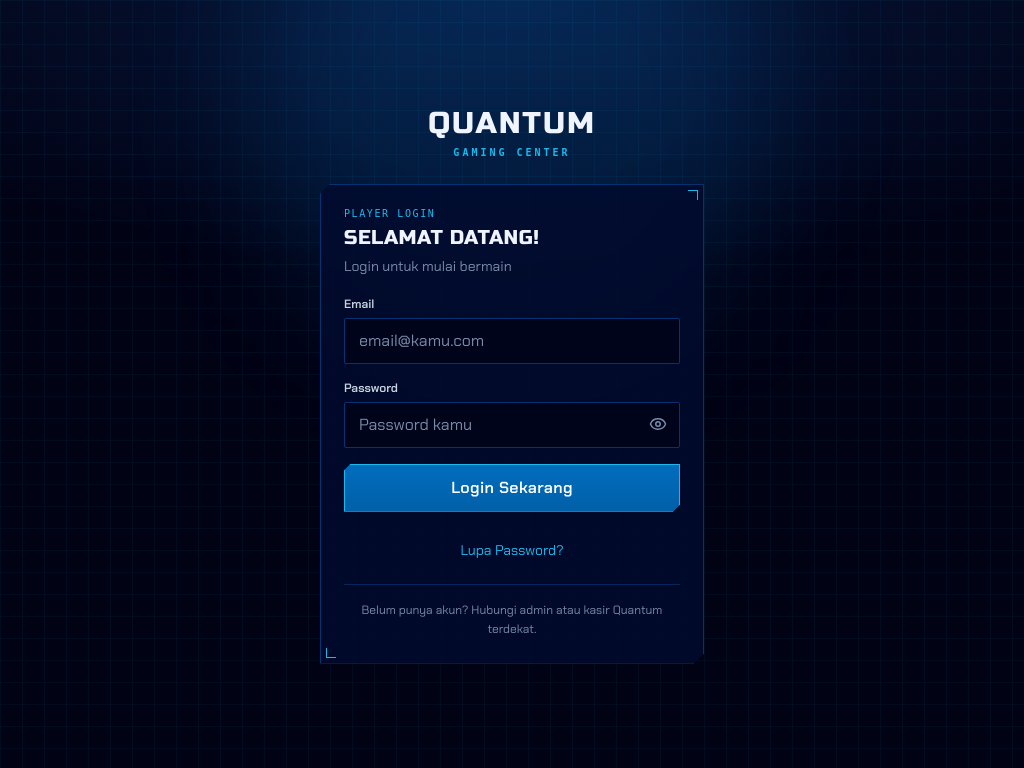
Test case: LoginView › disables the submit button while loading
The image size is (1024, 768).
Type "a@b.com" into the field labelled "Email" at point(512, 340), box [344,318,680,364]
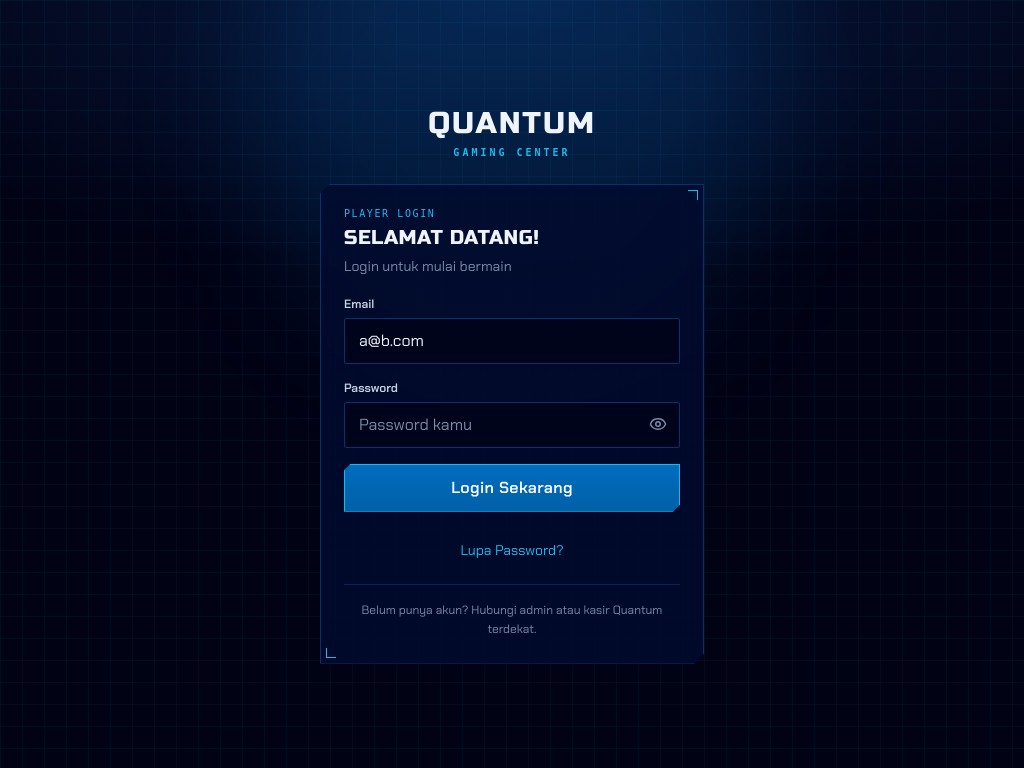
Type "pass" into the password field labelled "Password" at point(512, 424), box [344,402,680,448]
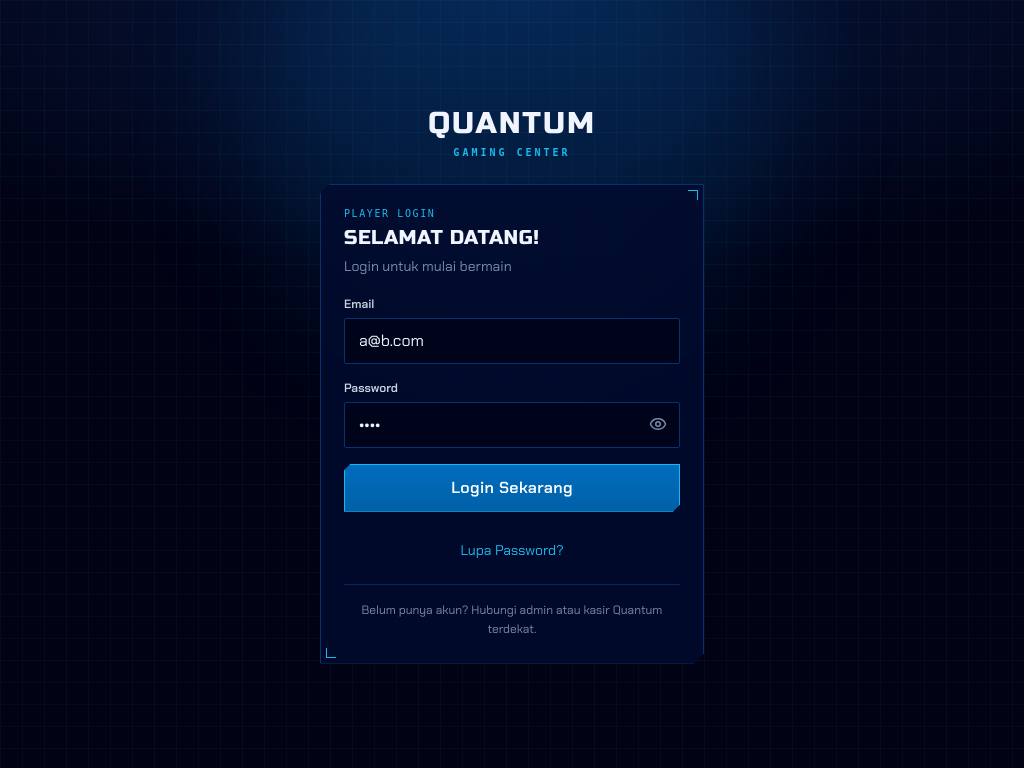
Submit the form, box [344,296,680,512]
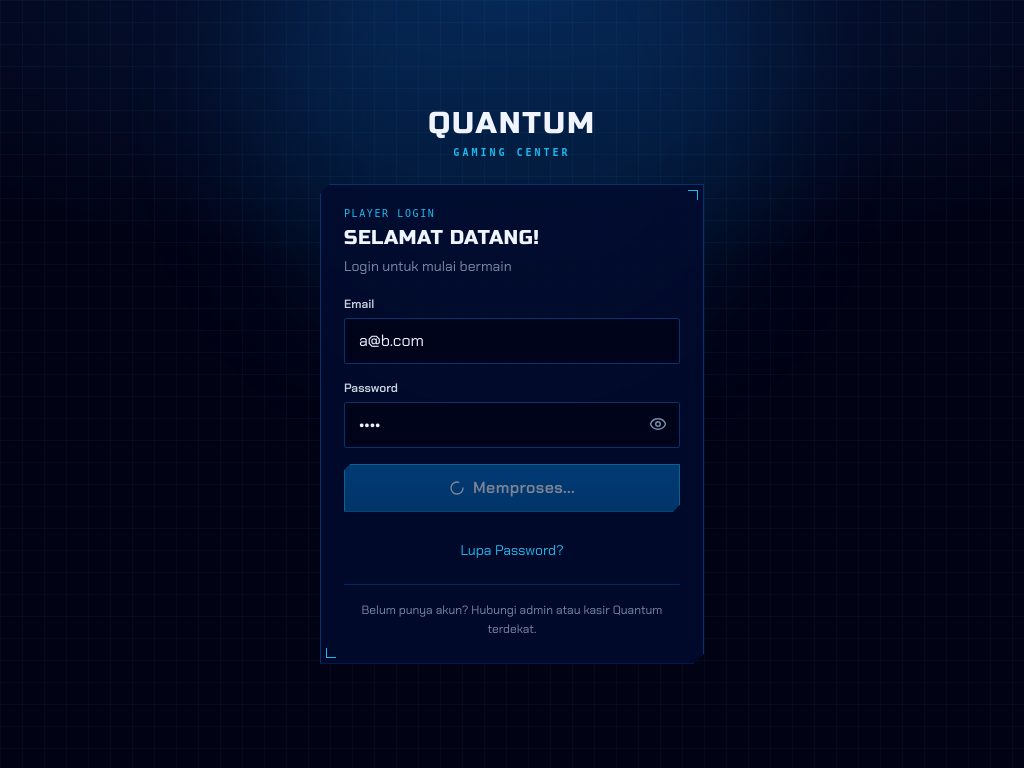
Expected: the submit button is disabled, [344,464,680,512]
Expected: the submit button shows "Memproses", [344,464,680,512]
